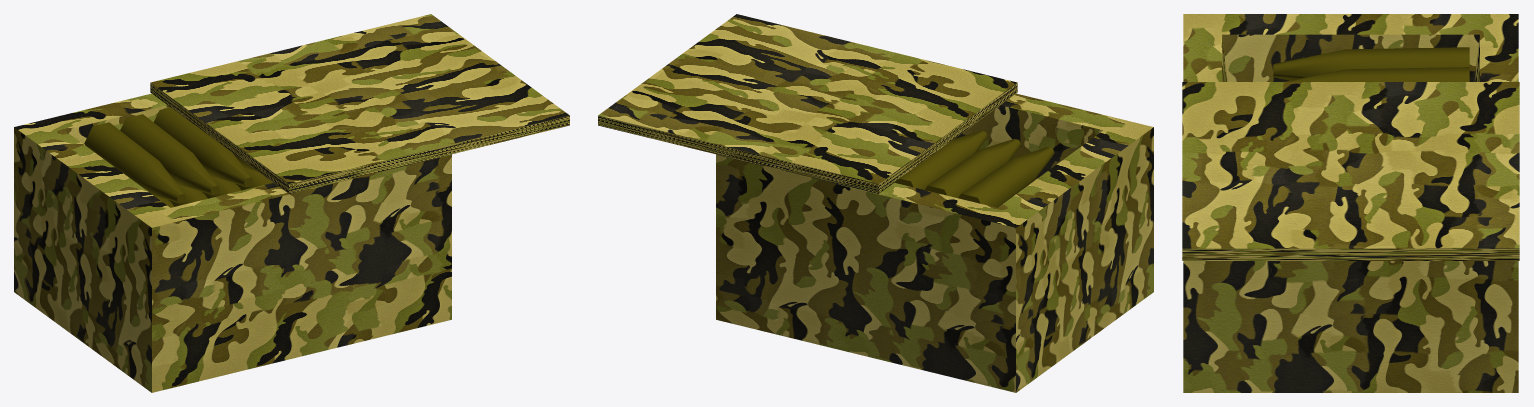
The model's file is ammunition.fbx.
The picture shows the model from 3 angles, left to right: view 1: azimuth 30°, elevation 25°; view 2: azimuth 150°, elevation 25°; view 3: azimuth 270°, elevation 25°; orthographic projection. The views are drawn at different scales.
Parts seen in each view (by area): view 1: 立方体, 立方体.001, 円柱.001, 円柱; view 2: 立方体, 立方体.001, 円柱.001; view 3: 立方体, 立方体.001, 円柱.001.
Part boxes in pixels (x1,y1,x2,y2): 立方体: [14, 93, 451, 392]; 立方体.001: [150, 14, 569, 193]; 円柱.001: [84, 107, 258, 203]; 円柱: [153, 167, 273, 207]; 立方体: [716, 93, 1153, 392]; 立方体.001: [598, 14, 1017, 193]; 円柱.001: [894, 130, 1054, 207]; 立方体: [1183, 14, 1518, 392]; 立方体.001: [1182, 82, 1519, 260]; 円柱.001: [1273, 47, 1469, 81].
Size of the model in its own units: 297 by 120 by 171.
